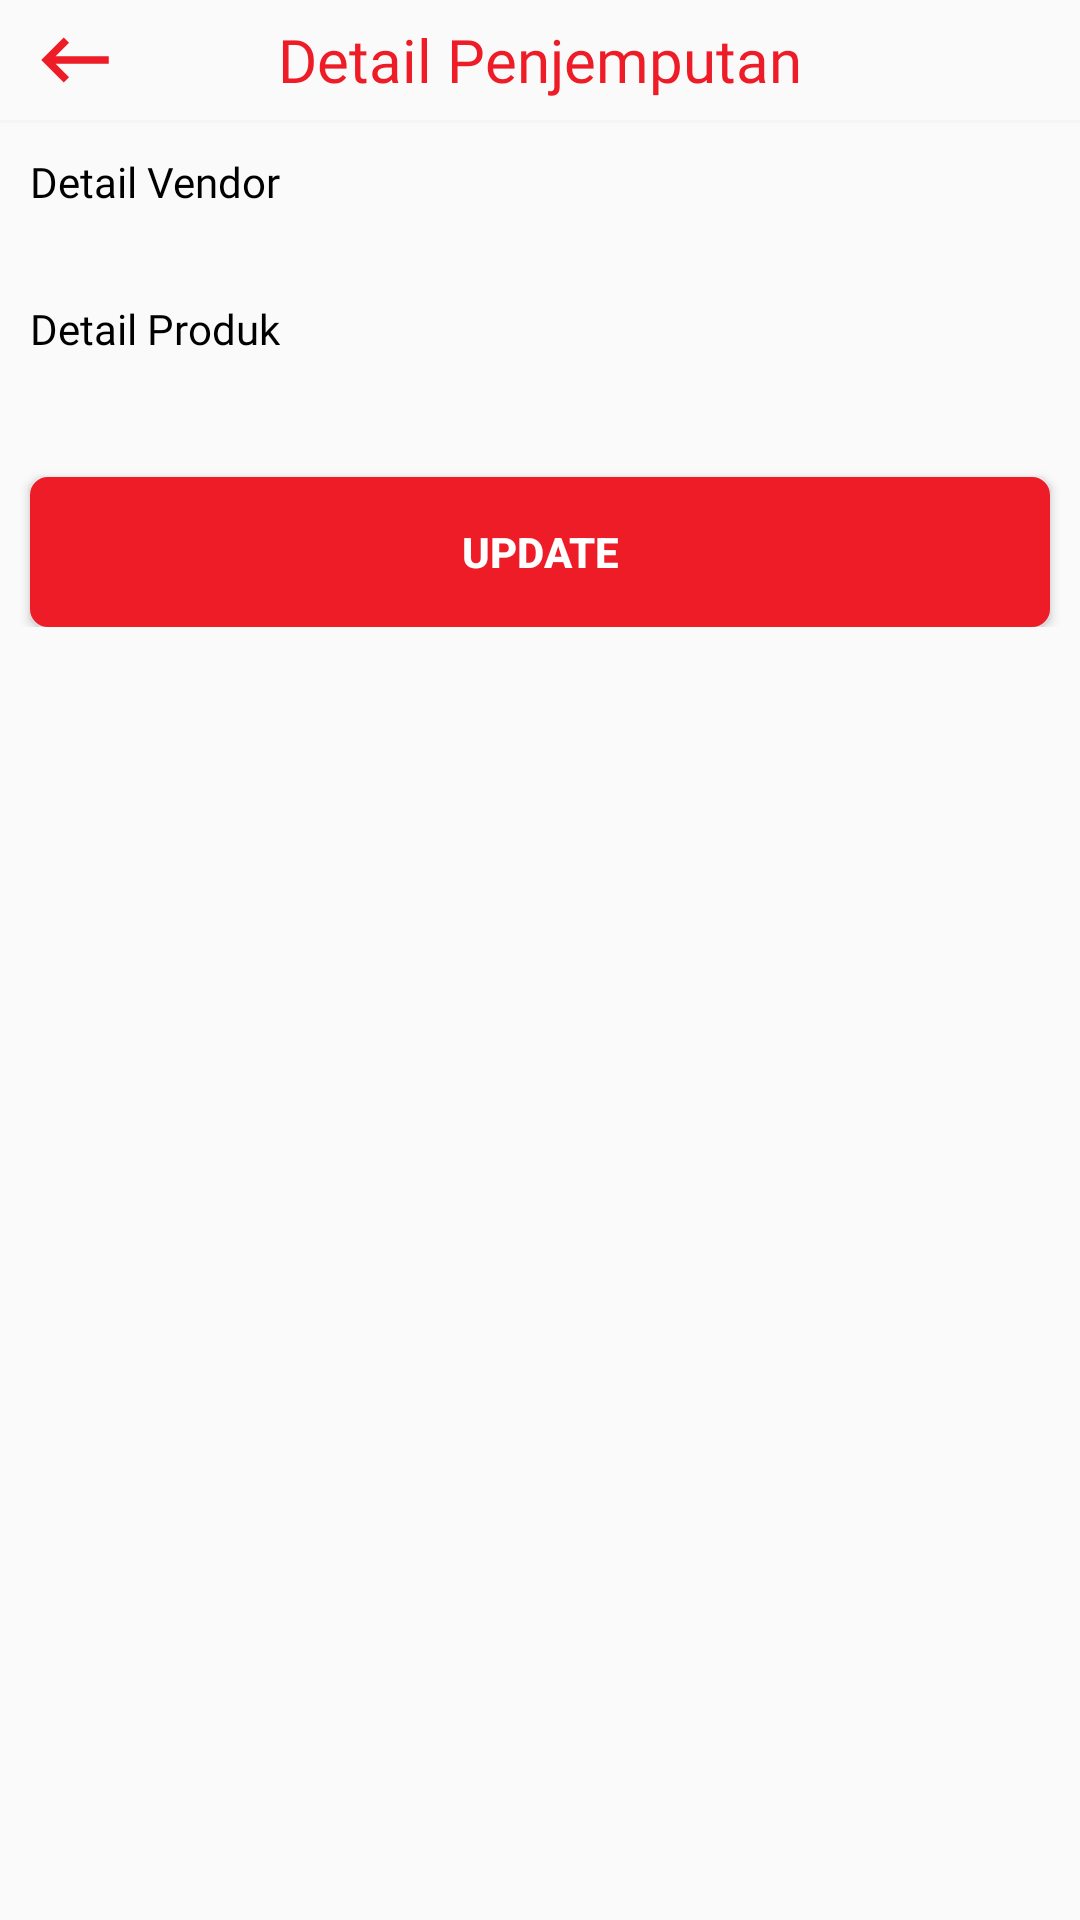

Icons on this 1080px×1920px Android screen, each with its box as (x1, y1, x2, y2):
back: (41, 37, 109, 83)
